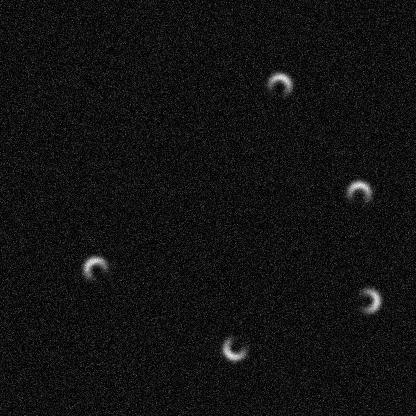Janus: (264, 70, 294, 100), (80, 254, 110, 284), (352, 285, 382, 315), (220, 332, 250, 362), (343, 178, 373, 208)
